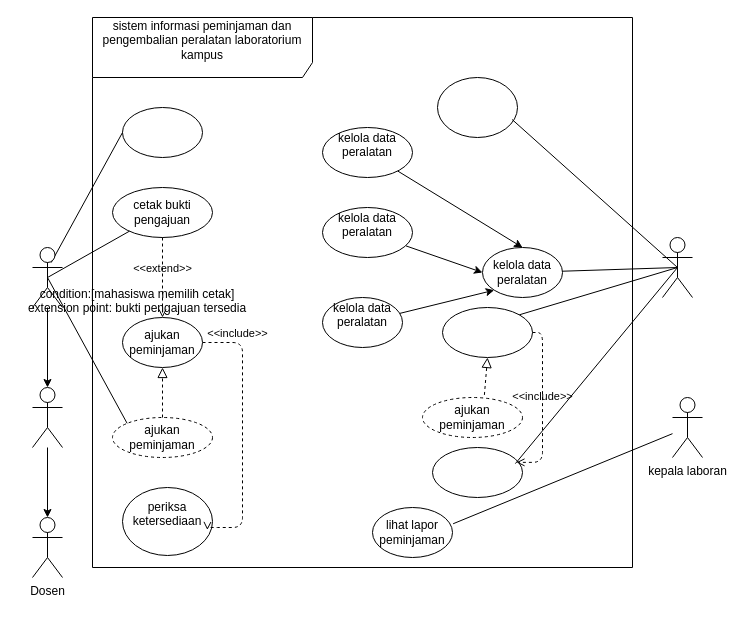
The diagram is 744 pixels wide and 631 high, and some of its shapes have lost their labels. The centre of each missing label's shape, as x and y in pixels:
"catat pengembalian peralatan" belongs at pixel 487 332.
"lihat ketersediaan peralatan" belongs at pixel 162 132.
"mahasiswa" belongs at pixel 47 277.
"peminjam" belongs at pixel 47 417.
"periksa kondisi peralatan" belongs at pixel 477 472.
"petugas laboran" belongs at pixel 677 267.
"proses keputusan peminjaman" belongs at pixel 477 107.
